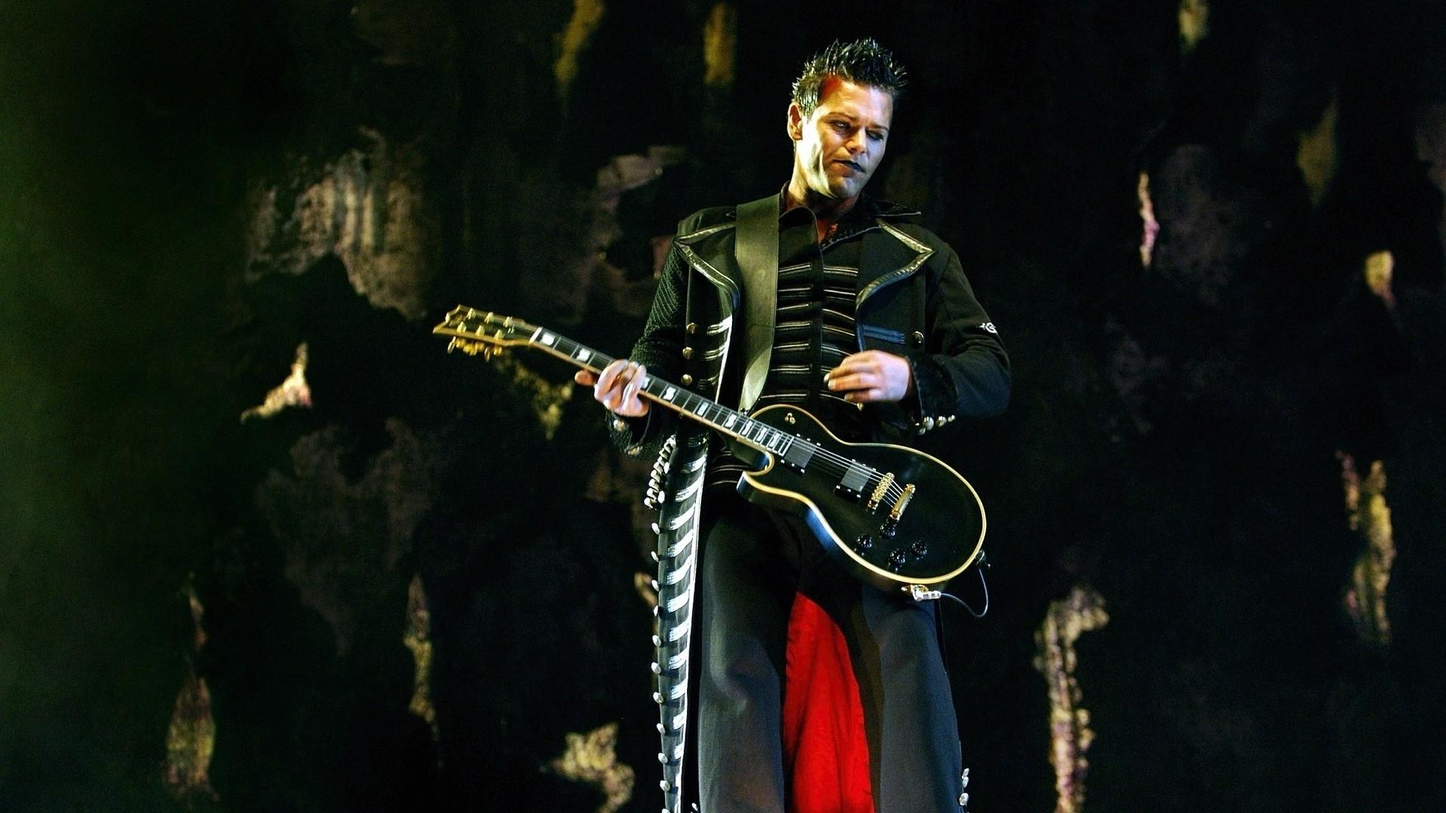acousticguitar: (432, 303, 991, 598)
